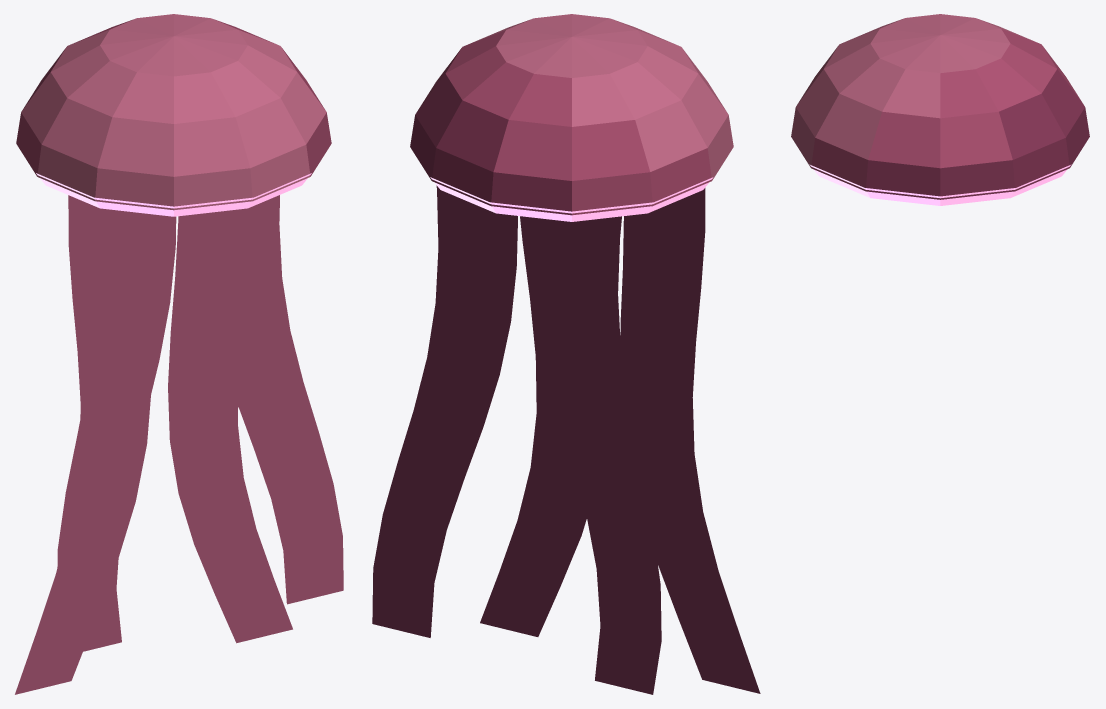
Rendered from phantom-jelly.glb.
3 renders of one model, left to right at view 1: azimuth 30°, elevation 25°; view 2: azimuth 150°, elevation 25°; view 3: azimuth 270°, elevation 25°, orthographic. The views are drawn at different scales.
Parts seen in each view (by area): view 1: bell, arm-1, arm-3, arm-4, arm-2; view 2: bell, arm-2, arm-1, arm-4, arm-3; view 3: bell.
Part boxes in pixels (bbox=[...]): bell: bbox=[16, 14, 331, 216]; arm-1: bbox=[15, 195, 151, 694]; arm-3: bbox=[168, 204, 292, 643]; arm-4: bbox=[238, 195, 343, 604]; arm-2: bbox=[57, 214, 176, 651]; bell: bbox=[410, 14, 733, 221]; arm-2: bbox=[538, 216, 661, 694]; arm-1: bbox=[620, 188, 760, 693]; arm-4: bbox=[372, 185, 517, 637]; arm-3: bbox=[480, 216, 586, 636]; bell: bbox=[791, 14, 1089, 205].
Bounding box in the file's own units: 4.14 × 6.8 × 3.24.
